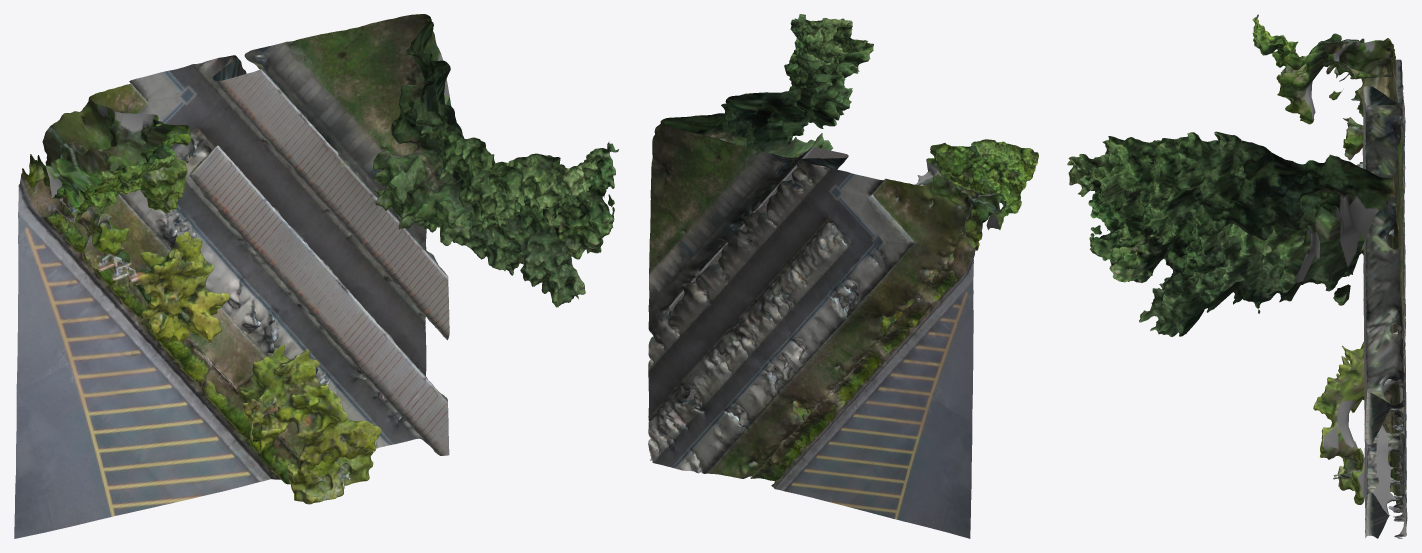
The model's file is Tile_+016_+024.fbx.
The picture shows the model from 3 angles, left to right: view 1: azimuth 30°, elevation 25°; view 2: azimuth 150°, elevation 25°; view 3: azimuth 270°, elevation 25°; orthographic projection. The views are drawn at different scales.
Visible parts, largest first — view 1: DefaultName; view 2: DefaultName; view 3: DefaultName.
Boxes of the visible parts, <box> form: DefaultName: <box>14,14,618,538</box>; DefaultName: <box>648,14,1038,538</box>; DefaultName: <box>1067,14,1407,538</box>.
Bounding box in the file's own units: 22.54 × 22.54 × 19.42.
